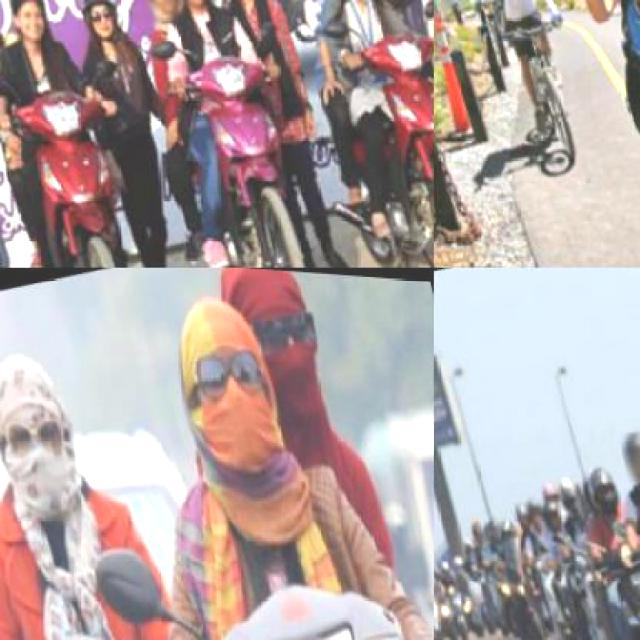With Helmet: (71, 0, 132, 51), (586, 460, 626, 514), (618, 423, 638, 486), (541, 491, 570, 532), (522, 490, 552, 528), (512, 496, 537, 532)
Without Helmet: (155, 276, 317, 504), (0, 326, 111, 542), (203, 268, 346, 426), (2, 0, 60, 51), (137, 0, 197, 28)
